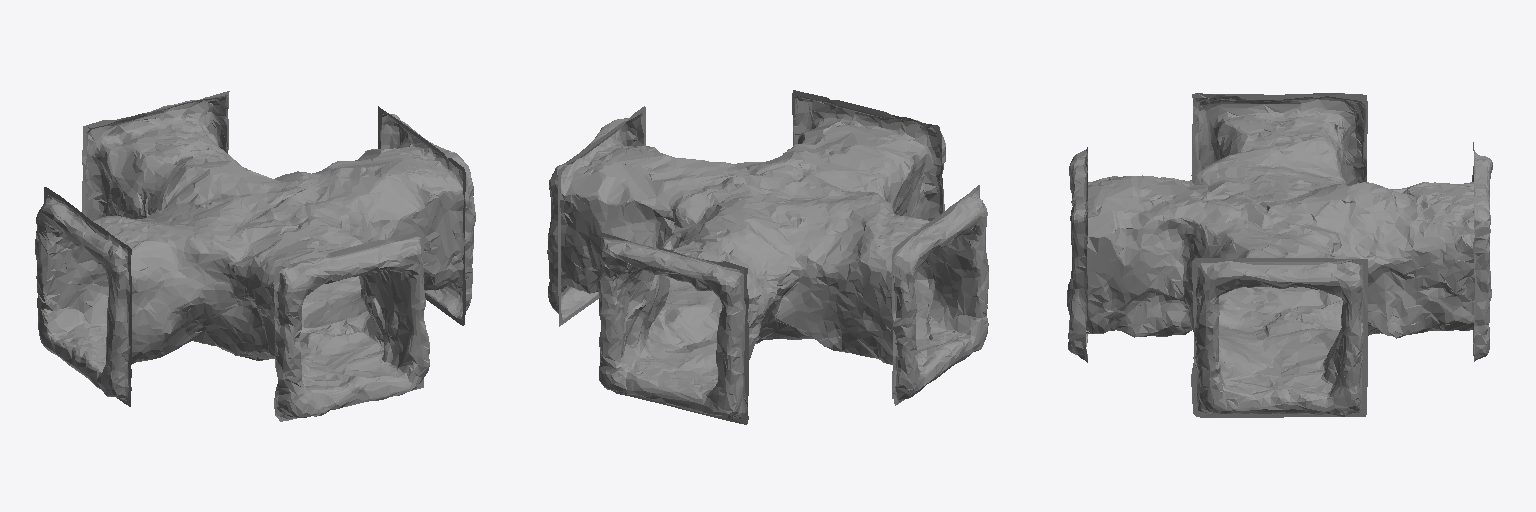
File: zisb_cave_cross_1.obj
3 views of the same model, side by side, from view 1: azimuth 30°, elevation 25°; view 2: azimuth 150°, elevation 25°; view 3: azimuth 270°, elevation 25° (orthographic).
Parts seen in each view (by area): view 1: defaultobject_defaultobject.001; view 2: defaultobject_defaultobject.001; view 3: defaultobject_defaultobject.001.
Part boxes in pixels (x1,y1,x2,y2): defaultobject_defaultobject.001: (35, 91, 475, 421); defaultobject_defaultobject.001: (547, 90, 988, 424); defaultobject_defaultobject.001: (1067, 93, 1492, 417).
Size of the model in its own units: 9.91 by 4.17 by 9.96.